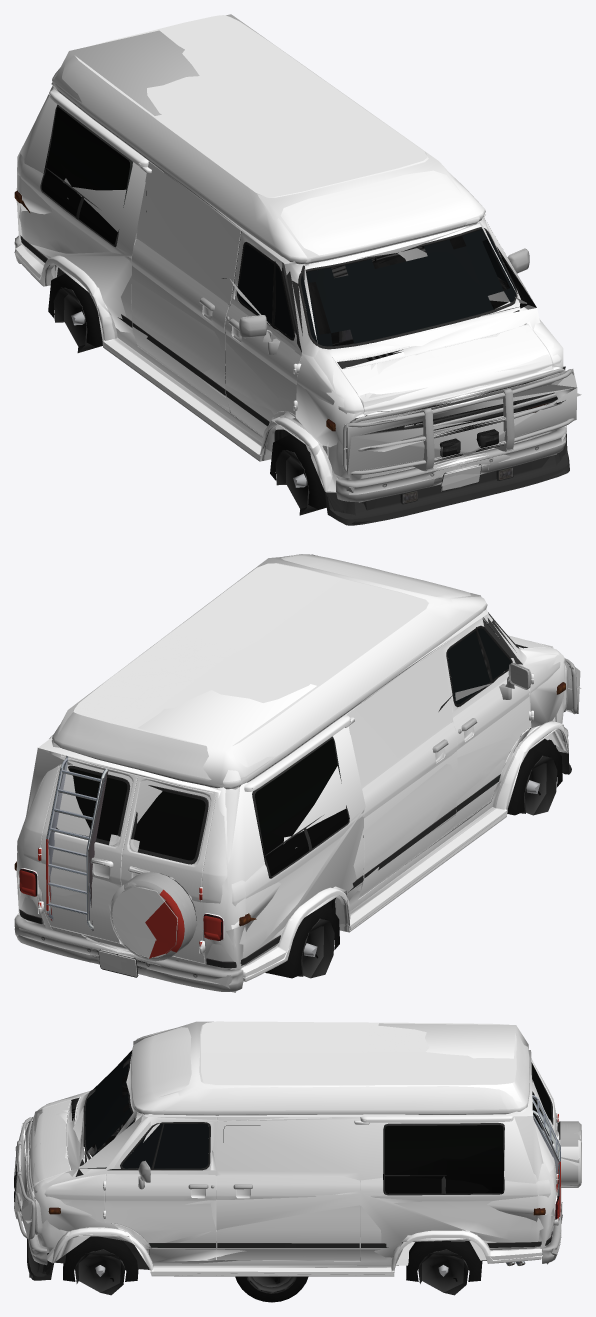
The model's file is van5.glb.
3 renders of one model, top to bottom at view 1: azimuth 30°, elevation 25°; view 2: azimuth 150°, elevation 25°; view 3: azimuth 270°, elevation 25°, orthographic. The views are drawn at different scales.
Visible parts, largest first — view 1: body0, body1, body2; view 2: body0, body1, body2; view 3: body0, body1, body2, wheel1, wheel0.
Boxes of the visible parts, x1,y1,x2,y2 form: body0: (14,15,574,525); body1: (14,14,581,524); body2: (16,192,577,515); body0: (14,554,577,991); body1: (14,554,578,992); body2: (17,618,581,978); body0: (14,1021,581,1280); body1: (15,1021,581,1277); body2: (17,1050,561,1295); wheel1: (235,1276,308,1302); wheel0: (235,1276,307,1302).
Bounding box in the file's own units: 2.36 × 2.46 × 5.2.
Materials: 6 (3 with a texture image).
